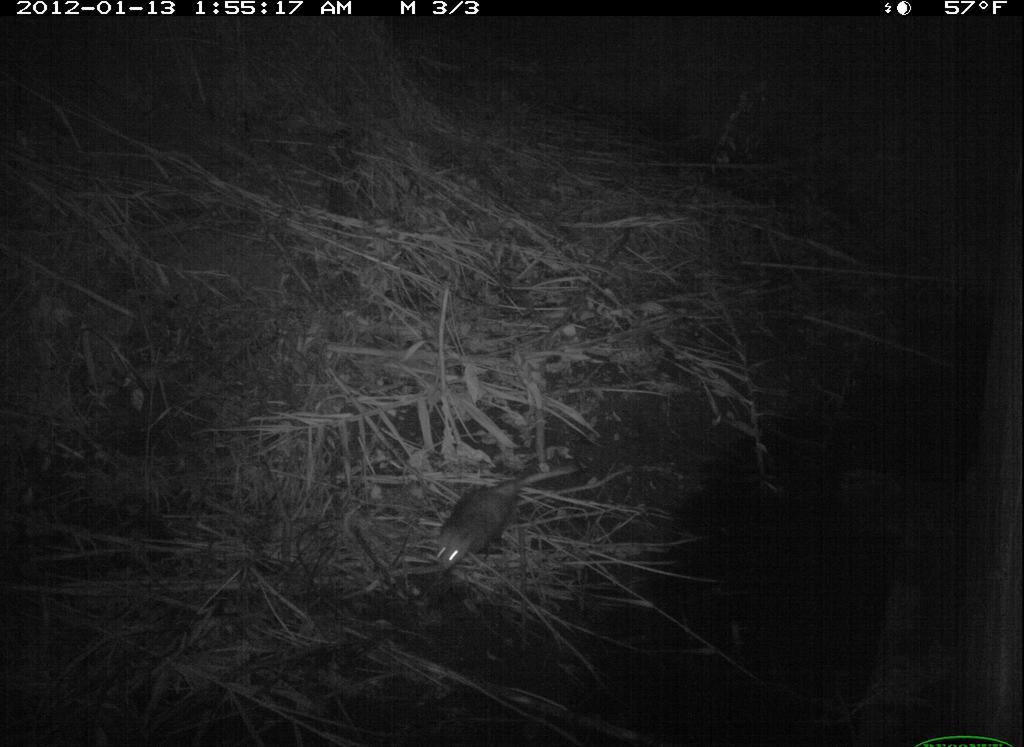opossum: (431, 464, 575, 577)
